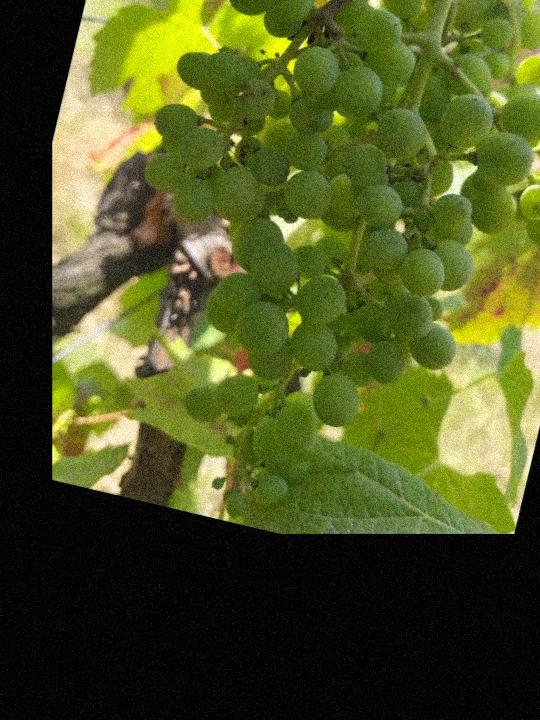grape: (67, 0, 540, 582)
